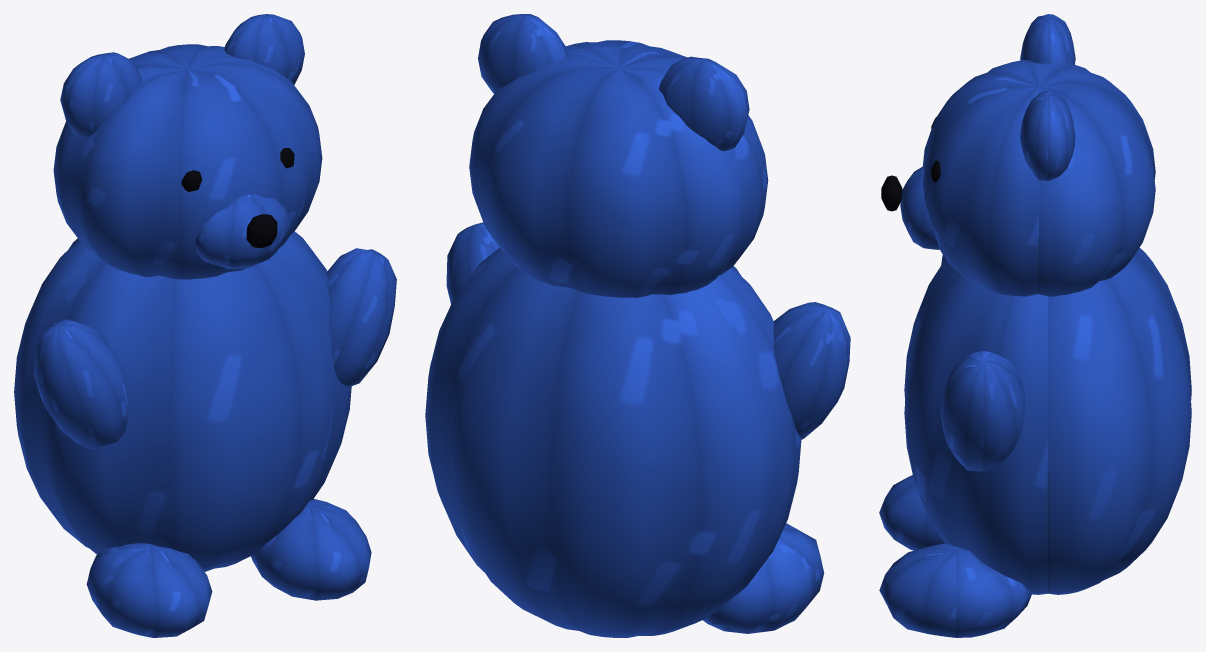
File: gummy-bear.glb
3 views of the same model, side by side, from view 1: azimuth 30°, elevation 25°; view 2: azimuth 150°, elevation 25°; view 3: azimuth 270°, elevation 25° (orthographic). The views are drawn at different scales.
Visible parts, largest first — view 1: gummy-bear; view 2: gummy-bear; view 3: gummy-bear.
Part boxes in pixels (box(x1,y1,x2,y2)): gummy-bear: box(14, 14, 396, 637); gummy-bear: box(425, 14, 850, 637); gummy-bear: box(879, 14, 1191, 637).
Bounding box in the file's own units: 0.4393 × 0.6451 × 0.3403.
1 material, 1 textured.
